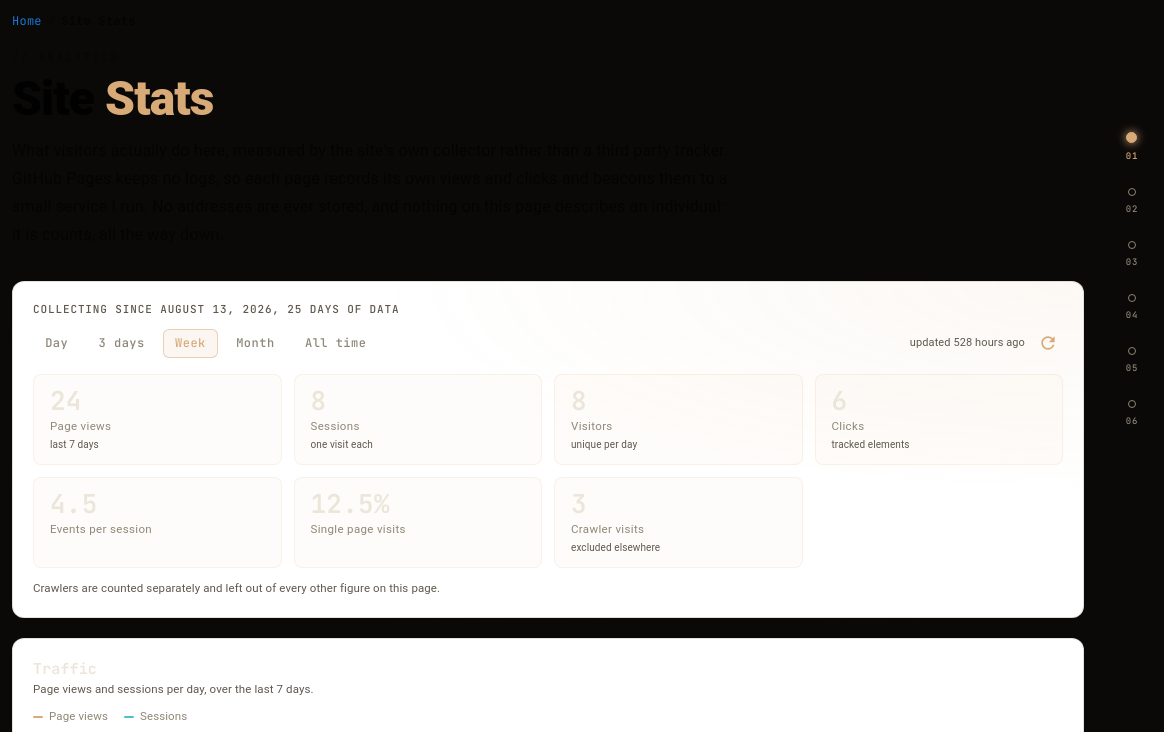
it: a rate limited read shows the wait and keeps the figures on screen
The width and height of the screenshot is (1164, 732).
Expected: the text "24" is shown, [50,383,82,418]
What coordinates should you click on to do the following:
click the button "Month"
I would click on:
 (255, 343)
Its box is [224,329,287,358].
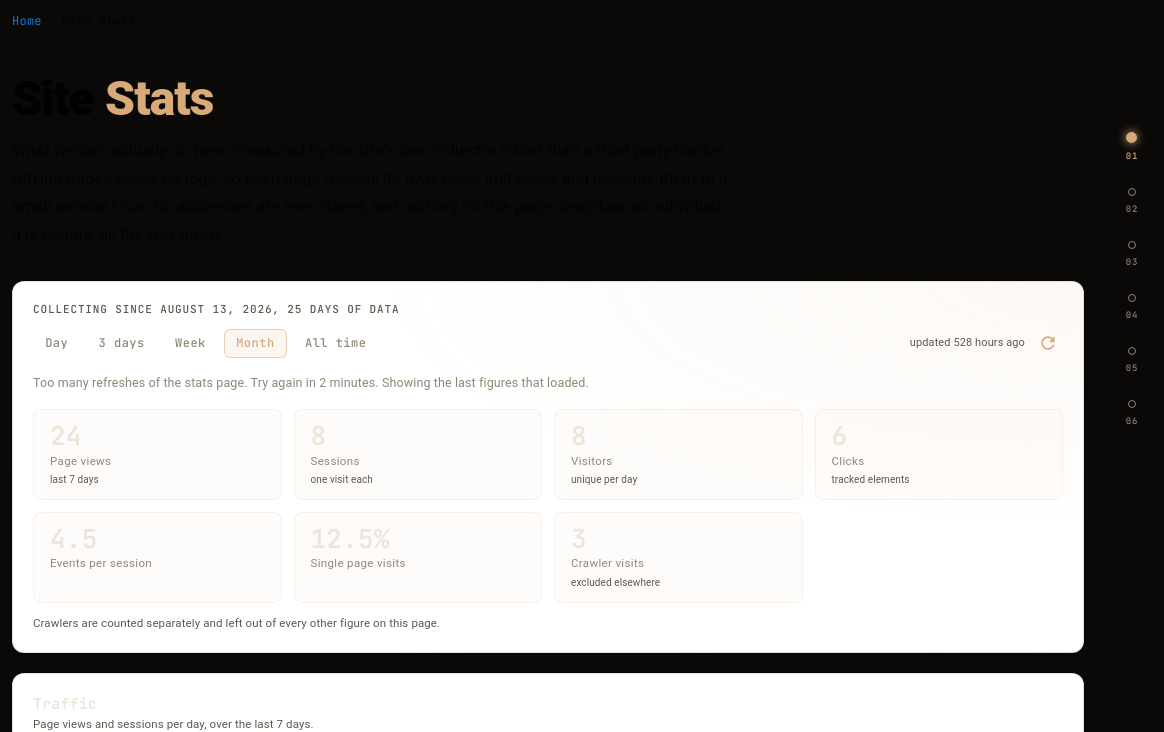
Expected: the text "24" is shown, [50,418,82,453]
Expected: the text "Too many refreshes" is shown, [33,375,589,390]
